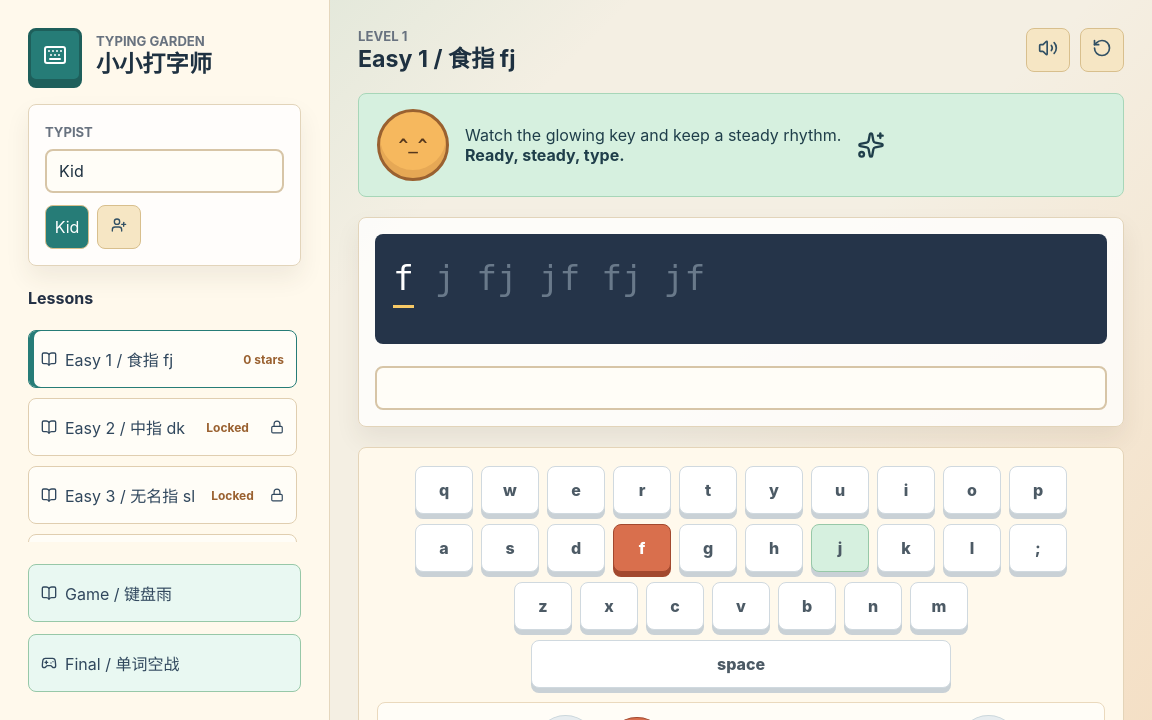
Test: App › offers a sound toggle for typing clicks
This screenshot has width=1152, height=720.
Click the button named "Mute typewriter sound": point(1048, 50) [1026, 28, 1070, 72]
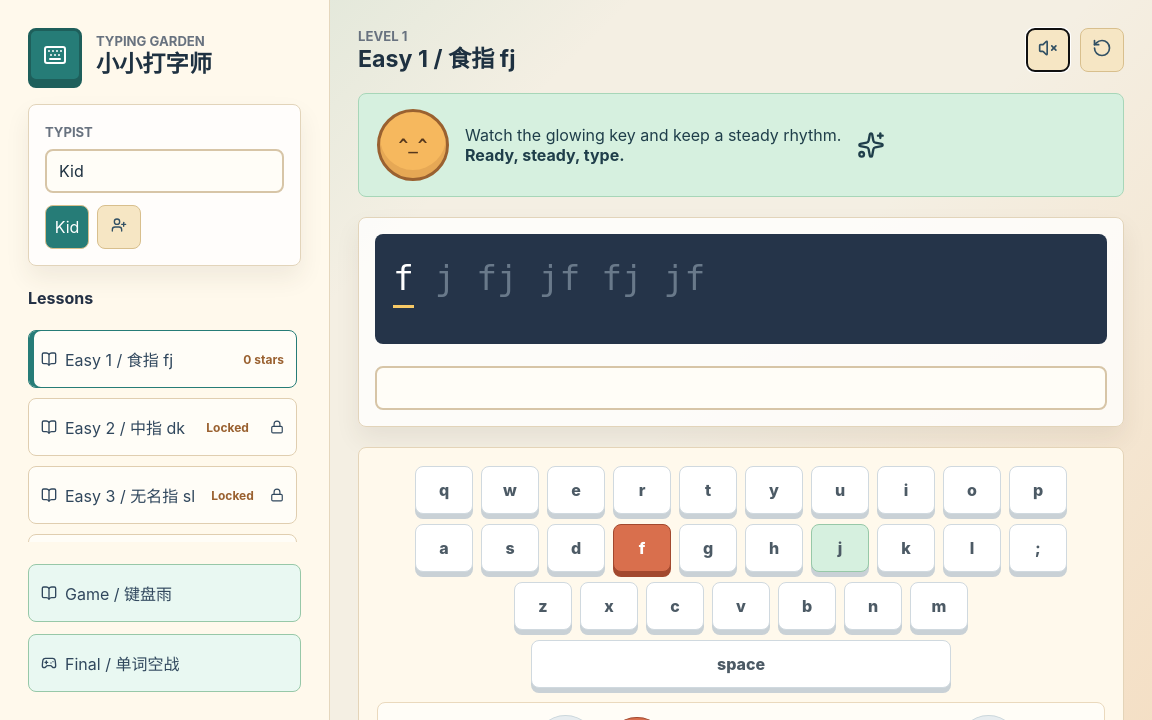
Now the button named "Turn on typewriter sound" is shown, box [1026, 28, 1070, 72]
